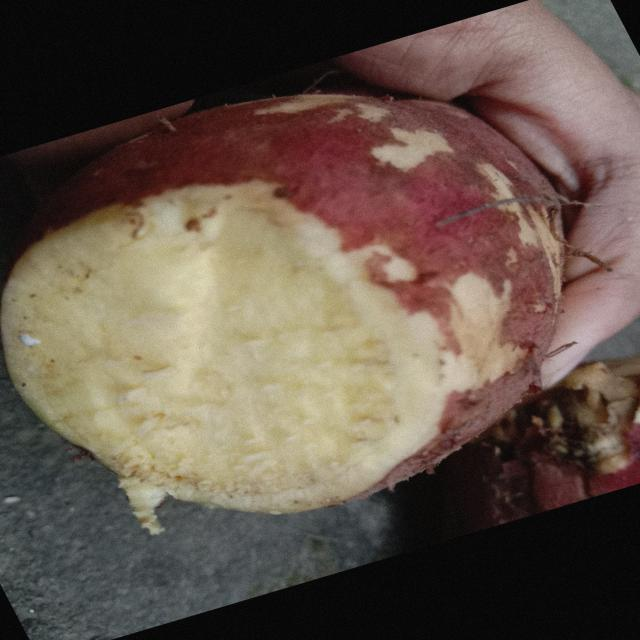Healthy Sweet Potato: (3, 181, 445, 530)
